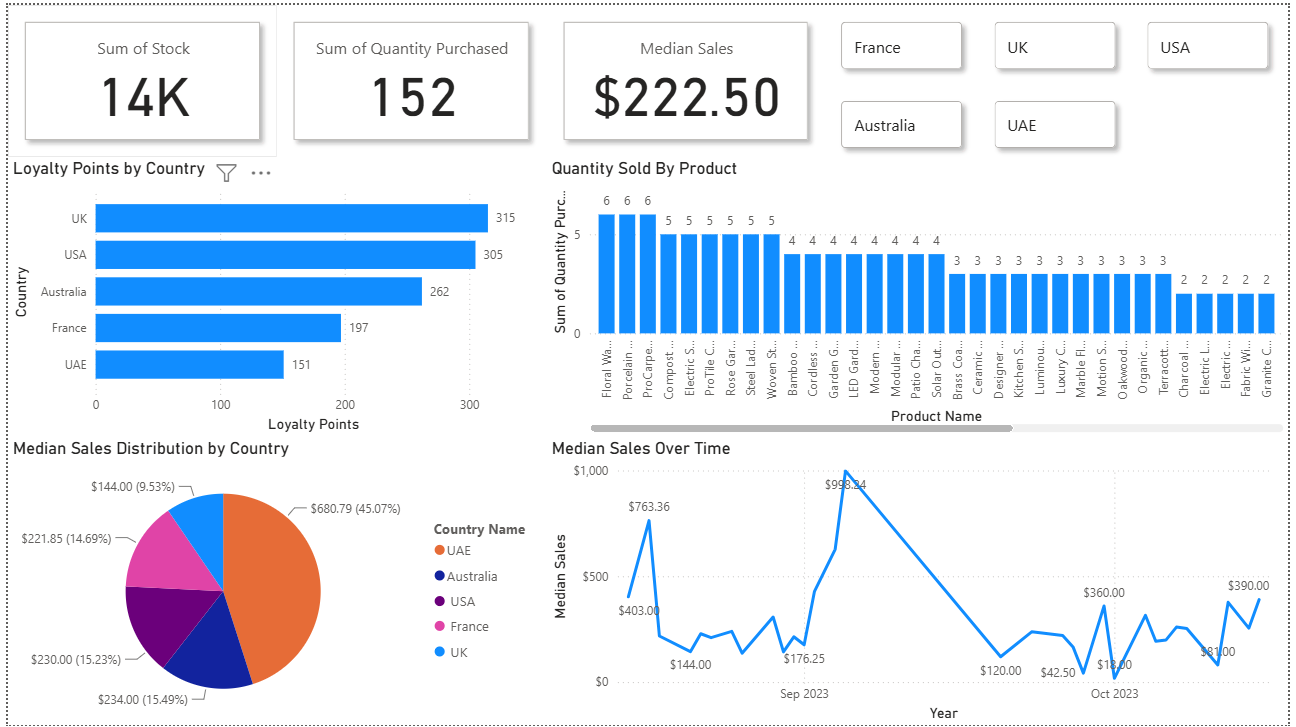

This screenshot's page, from the dashboard's own definition file:
{"tool":"powerbi","page":{"name":"Sales Overview","canvas":[1280,720],"ordinal":0},"visuals":[{"type":"clusteredBarChart","title":"Loyalty Points by Country","fields":{"Category":["Sales in USD.Country Name"],"Y":["Sum(Sales in USD. Loyalty Points)"]},"box":[0,152.2,538.7,279.9],"z":0},{"type":"clusteredColumnChart","title":"Quantity Sold By Product","fields":{"Category":["Sales in USD.Product Name"],"Y":["Sum(Sales in USD.Quantity Purchased)"]},"box":[538.7,152.2,741.6,279.9],"z":1000},{"type":"pieChart","title":"Median Sales Distribution by Country","fields":{"Category":["Sales in USD.Country Name"],"Y":["Sales in USD.Median Sales"]},"box":[0,432,538.7,288.6],"z":2000},{"type":"lineChart","title":"Median Sales Over Time","fields":{"Y":["Sales in USD.Median Sales"],"Category":["CalendarTable.Date.Variation.Date Hierarchy.Year","CalendarTable.Date.Variation.Date Hierarchy.Quarter","CalendarTable.Date.Variation.Date Hierarchy.Month","CalendarTable.Date.Variation.Date Hierarchy.Day"]},"box":[538.7,432,741.6,288.6],"z":3000},{"type":"cardVisual","fields":{"Data":["Sum(Sales in USD. Stock  )"]},"box":[0,0,269.4,152.2],"z":4000},{"type":"cardVisual","fields":{"Data":["Sum(Sales in USD.Quantity Purchased)"]},"box":[269.4,0,269.4,152.2],"z":5000},{"type":"cardVisual","fields":{"Data":["Sales in USD.Median Sales"]},"box":[538.7,0,278.1,152.2],"z":6000},{"type":"advancedSlicerVisual","fields":{"Values":["Sales in USD.Country Name"]},"box":[816.5,0,463.8,161.9],"z":7000}]}

Visuals, with their boxes in screenshot pixels (x1, y1, x2, y2), scaled from the page's 1280x720 canvas onto the 1296x727 screenshot:
"Loyalty Points by Country" clusteredBarChart: left=0, top=154, right=545, bottom=436
"Quantity Sold By Product" clusteredColumnChart: left=545, top=154, right=1295, bottom=436
"Median Sales Distribution by Country" pieChart: left=0, top=436, right=545, bottom=726
"Median Sales Over Time" lineChart: left=545, top=436, right=1295, bottom=726
cardVisual - Sum(Sales in USD. Stock  ): left=0, top=0, right=273, bottom=154
cardVisual - Sum(Sales in USD.Quantity Purchased): left=273, top=0, right=546, bottom=154
cardVisual - Sales in USD.Median Sales: left=545, top=0, right=827, bottom=154
advancedSlicerVisual - Sales in USD.Country Name: left=827, top=0, right=1295, bottom=163
